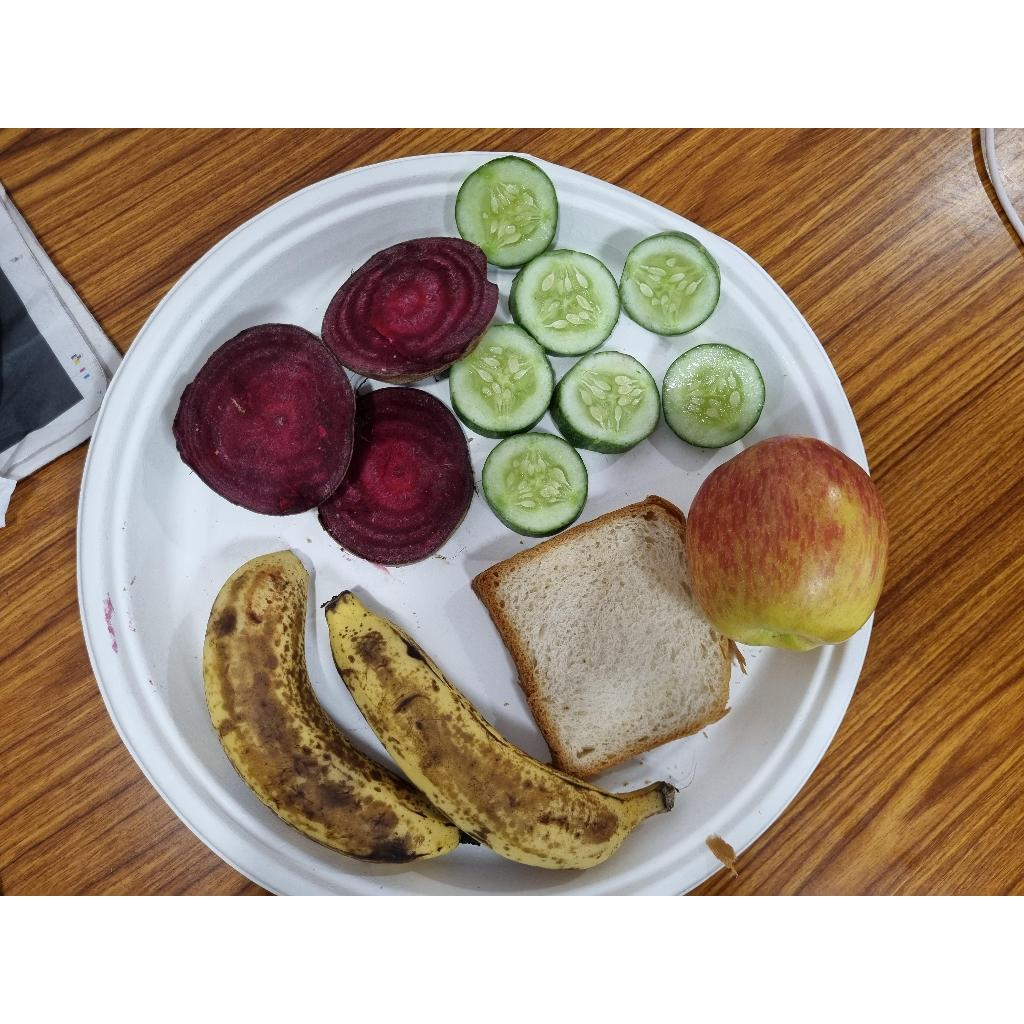apple: (681, 437, 890, 654)
banana: (319, 592, 675, 873), (201, 552, 469, 865)
cucumber: (452, 155, 562, 287), (510, 250, 621, 372), (475, 431, 592, 543), (448, 324, 559, 441), (548, 348, 664, 457), (659, 343, 767, 451), (616, 233, 723, 339)
